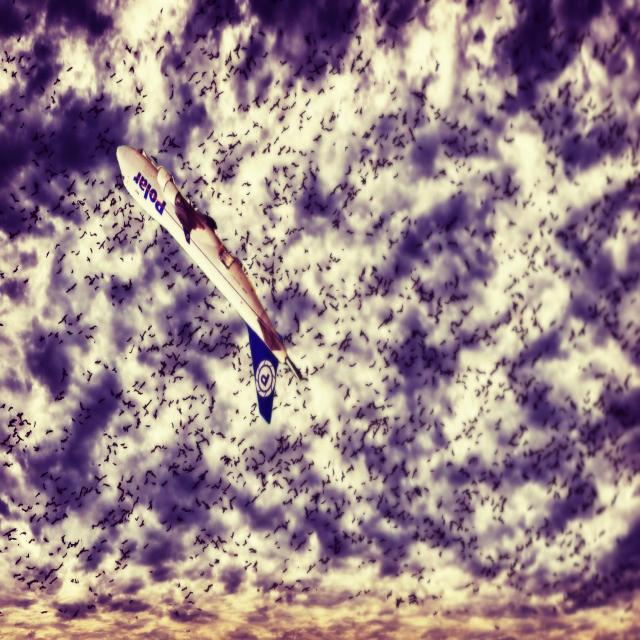airplane: (115, 143, 304, 425)
